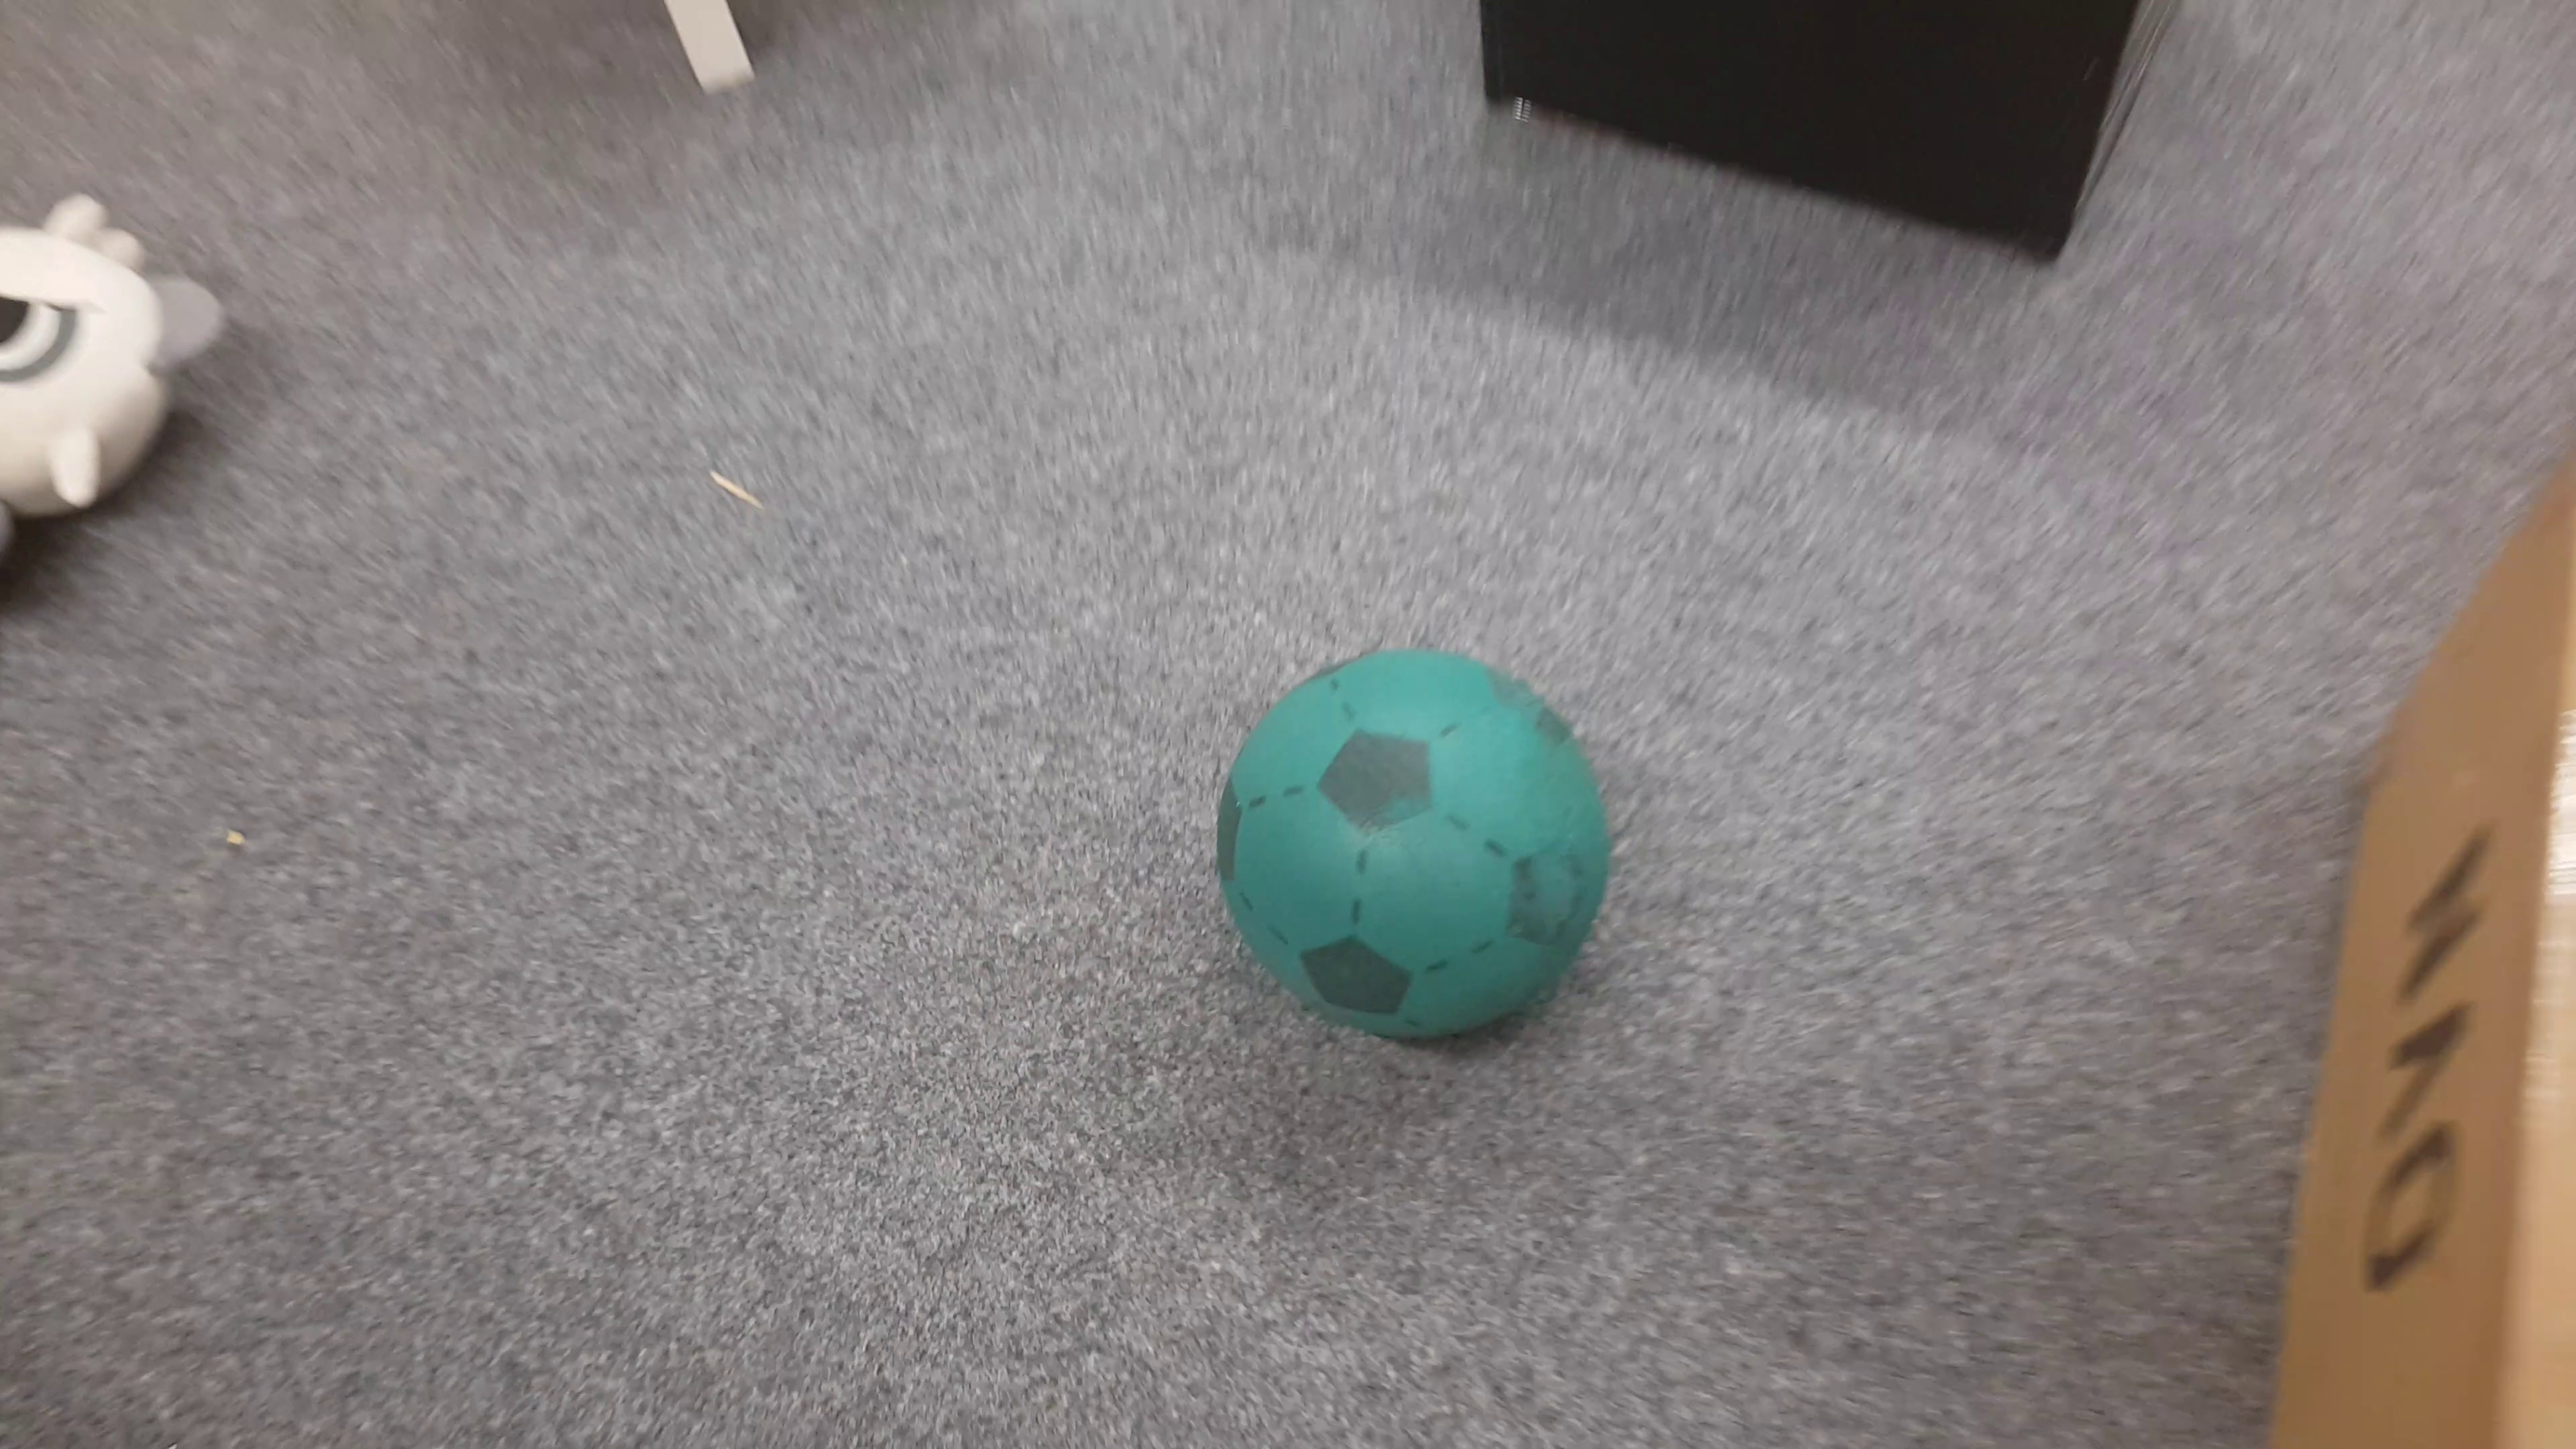grasp: (4, 191, 225, 556)
kick: (1215, 644, 1610, 1049)
push: (1479, 5, 2192, 264)
